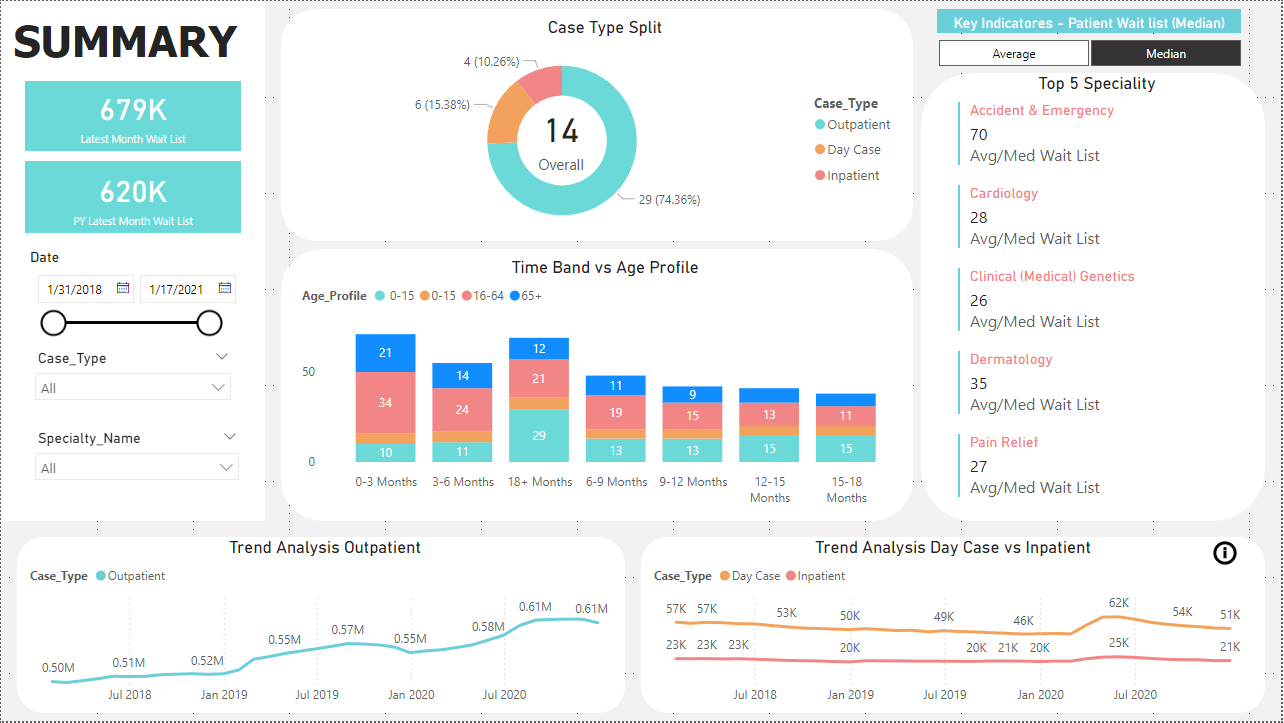

What the dashboard file says about the page in this screenshot:
{"tool":"powerbi","page":{"name":"Summary","canvas":[1280,720],"ordinal":0},"visuals":[{"type":"shape","box":[640,536,624,176],"z":0},{"type":"shape","box":[280,248,632,272],"z":1000},{"type":"shape","box":[16,536,608,176],"z":2000},{"type":"shape","box":[280,8,632,232],"z":3000},{"type":"shape","box":[920,72,344,448],"z":4000},{"type":"shape","box":[0,0,264,520],"z":5000},{"type":"card","fields":{"Values":["All_Data.Latest Month Wait List"]},"box":[24,78,216,72],"z":6000},{"type":"card","fields":{"Values":["All_Data.PY Latest Month Wait List"]},"box":[24,160,216,72],"z":7000},{"type":"slicer","fields":{"Values":["Calculation Method.Cal Method"]},"box":[912,32,352,40],"z":8000},{"type":"donutChart","title":"Case Type Split","fields":{"Category":["All_Data.Case_Type"],"Y":["All_Data.Avg/Med Wait List"]},"box":[304,16,600,224],"z":9000},{"type":"columnChart","title":"Time Band vs Age Profile","fields":{"Category":["All_Data.Time_Bands"],"Y":["All_Data.Avg/Med Wait List"],"Series":["All_Data.Age_Profile"]},"box":[296,256,616,256],"z":10000},{"type":"card","fields":{"Values":["All_Data.NoDataLeft"]},"box":[696,576,512,112],"z":10500},{"type":"multiRowCard","title":"Top 5 Speciality","fields":{"Values":["All_Data.Specialty_Name","All_Data.Avg/Med Wait List"]},"box":[952,72,288,448],"z":11000},{"type":"lineChart","title":"Trend Analysis Day Case vs Inpatient","fields":{"Y":["Sum(All_Data.Total)"],"Category":["All_Data.Archive_Date"],"Series":["All_Data.Case_Type"]},"box":[648,536,608,176],"z":12000},{"type":"card","fields":{"Values":["All_Data.NoDataRight"]},"box":[48,576,520,104],"z":13000},{"type":"lineChart","title":"Trend Analysis Outpatient","fields":{"Y":["Sum(All_Data.Total)"],"Category":["All_Data.Archive_Date"],"Series":["All_Data.Case_Type"]},"box":[24,536,600,176],"z":14000},{"type":"slicer","title":"Date","fields":{"Values":["All_Data.Archive_Date"]},"box":[24,248,216,96],"z":15000},{"type":"slicer","fields":{"Values":["All_Data.Case_Type"]},"box":[24,344,216,64],"z":16000},{"type":"slicer","fields":{"Values":["All_Data.Specialty_Name"]},"box":[24,424,224,64],"z":17000},{"type":"textbox","box":[0,8,248,72],"z":18000},{"type":"card","fields":{"Values":["All_Data.Avg/Med Wait List"]},"box":[504,88,112,96],"z":19000},{"type":"card","fields":{"Values":["All_Data.Dynamic Title"]},"box":[936,8,304,24],"z":20000},{"type":"actionButton","box":[1208,536,32,32],"z":20501}]}

Visuals, with their boxes in screenshot pixels (x1, y1, x2, y2), scaled from the page's 1280x720 canvas onto the 1284x723 screenshot:
shape: x1=642, y1=538, x2=1268, y2=715
shape: x1=281, y1=249, x2=915, y2=522
shape: x1=16, y1=538, x2=626, y2=715
shape: x1=281, y1=8, x2=915, y2=241
shape: x1=923, y1=72, x2=1268, y2=522
shape: x1=0, y1=0, x2=265, y2=522
card - All_Data.Latest Month Wait List: x1=24, y1=78, x2=241, y2=151
card - All_Data.PY Latest Month Wait List: x1=24, y1=161, x2=241, y2=233
slicer - Calculation Method.Cal Method: x1=915, y1=32, x2=1268, y2=72
"Case Type Split" donutChart: x1=305, y1=16, x2=907, y2=241
"Time Band vs Age Profile" columnChart: x1=297, y1=257, x2=915, y2=514
card - All_Data.NoDataLeft: x1=698, y1=578, x2=1212, y2=691
"Top 5 Speciality" multiRowCard: x1=955, y1=72, x2=1244, y2=522
"Trend Analysis Day Case vs Inpatient" lineChart: x1=650, y1=538, x2=1260, y2=715
card - All_Data.NoDataRight: x1=48, y1=578, x2=570, y2=683
"Trend Analysis Outpatient" lineChart: x1=24, y1=538, x2=626, y2=715
"Date" slicer: x1=24, y1=249, x2=241, y2=345
slicer - All_Data.Case_Type: x1=24, y1=345, x2=241, y2=410
slicer - All_Data.Specialty_Name: x1=24, y1=426, x2=249, y2=490
textbox: x1=0, y1=8, x2=249, y2=80
card - All_Data.Avg/Med Wait List: x1=506, y1=88, x2=618, y2=185
card - All_Data.Dynamic Title: x1=939, y1=8, x2=1244, y2=32
actionButton: x1=1212, y1=538, x2=1244, y2=570
